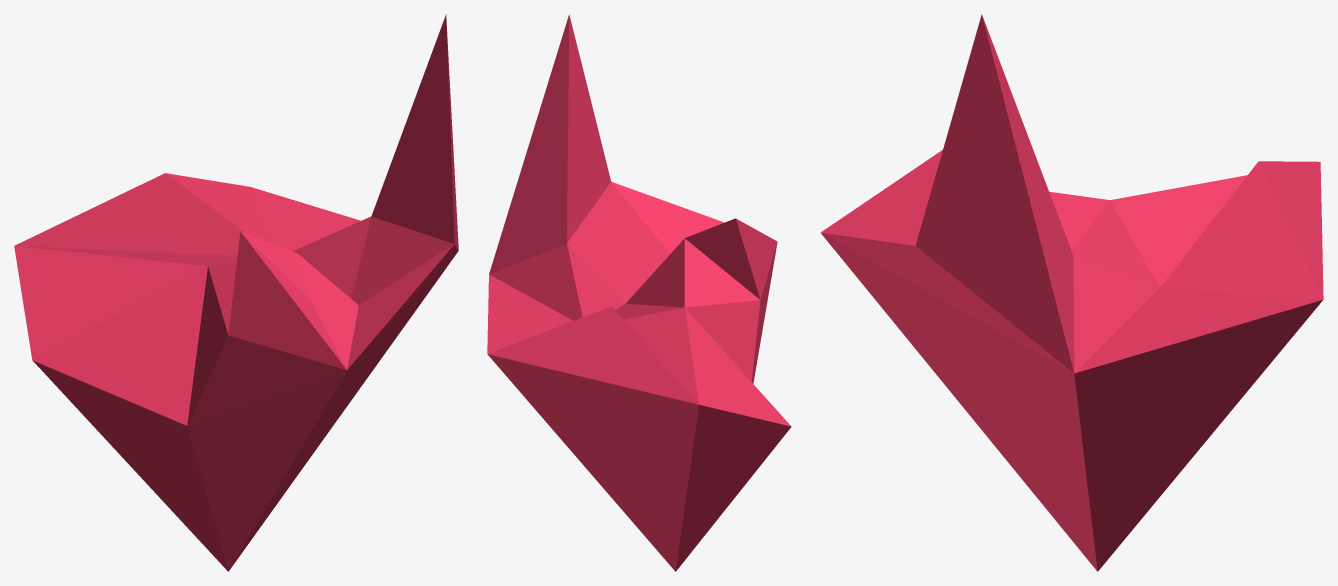
The model's file is krysztal_fragment2.fbx.
3 renders of one model, left to right at view 1: azimuth 30°, elevation 25°; view 2: azimuth 150°, elevation 25°; view 3: azimuth 270°, elevation 25°, orthographic. The views are drawn at different scales.
Parts seen in each view (by area): view 1: krysztal_frg2; view 2: krysztal_frg2; view 3: krysztal_frg2.
Boxes of the visible parts, x1,y1,x2,y2 form: krysztal_frg2: (14,14,458,571); krysztal_frg2: (487,14,791,571); krysztal_frg2: (820,14,1323,571).
Size of the model in its own units: 89.44 by 123 by 85.5.
